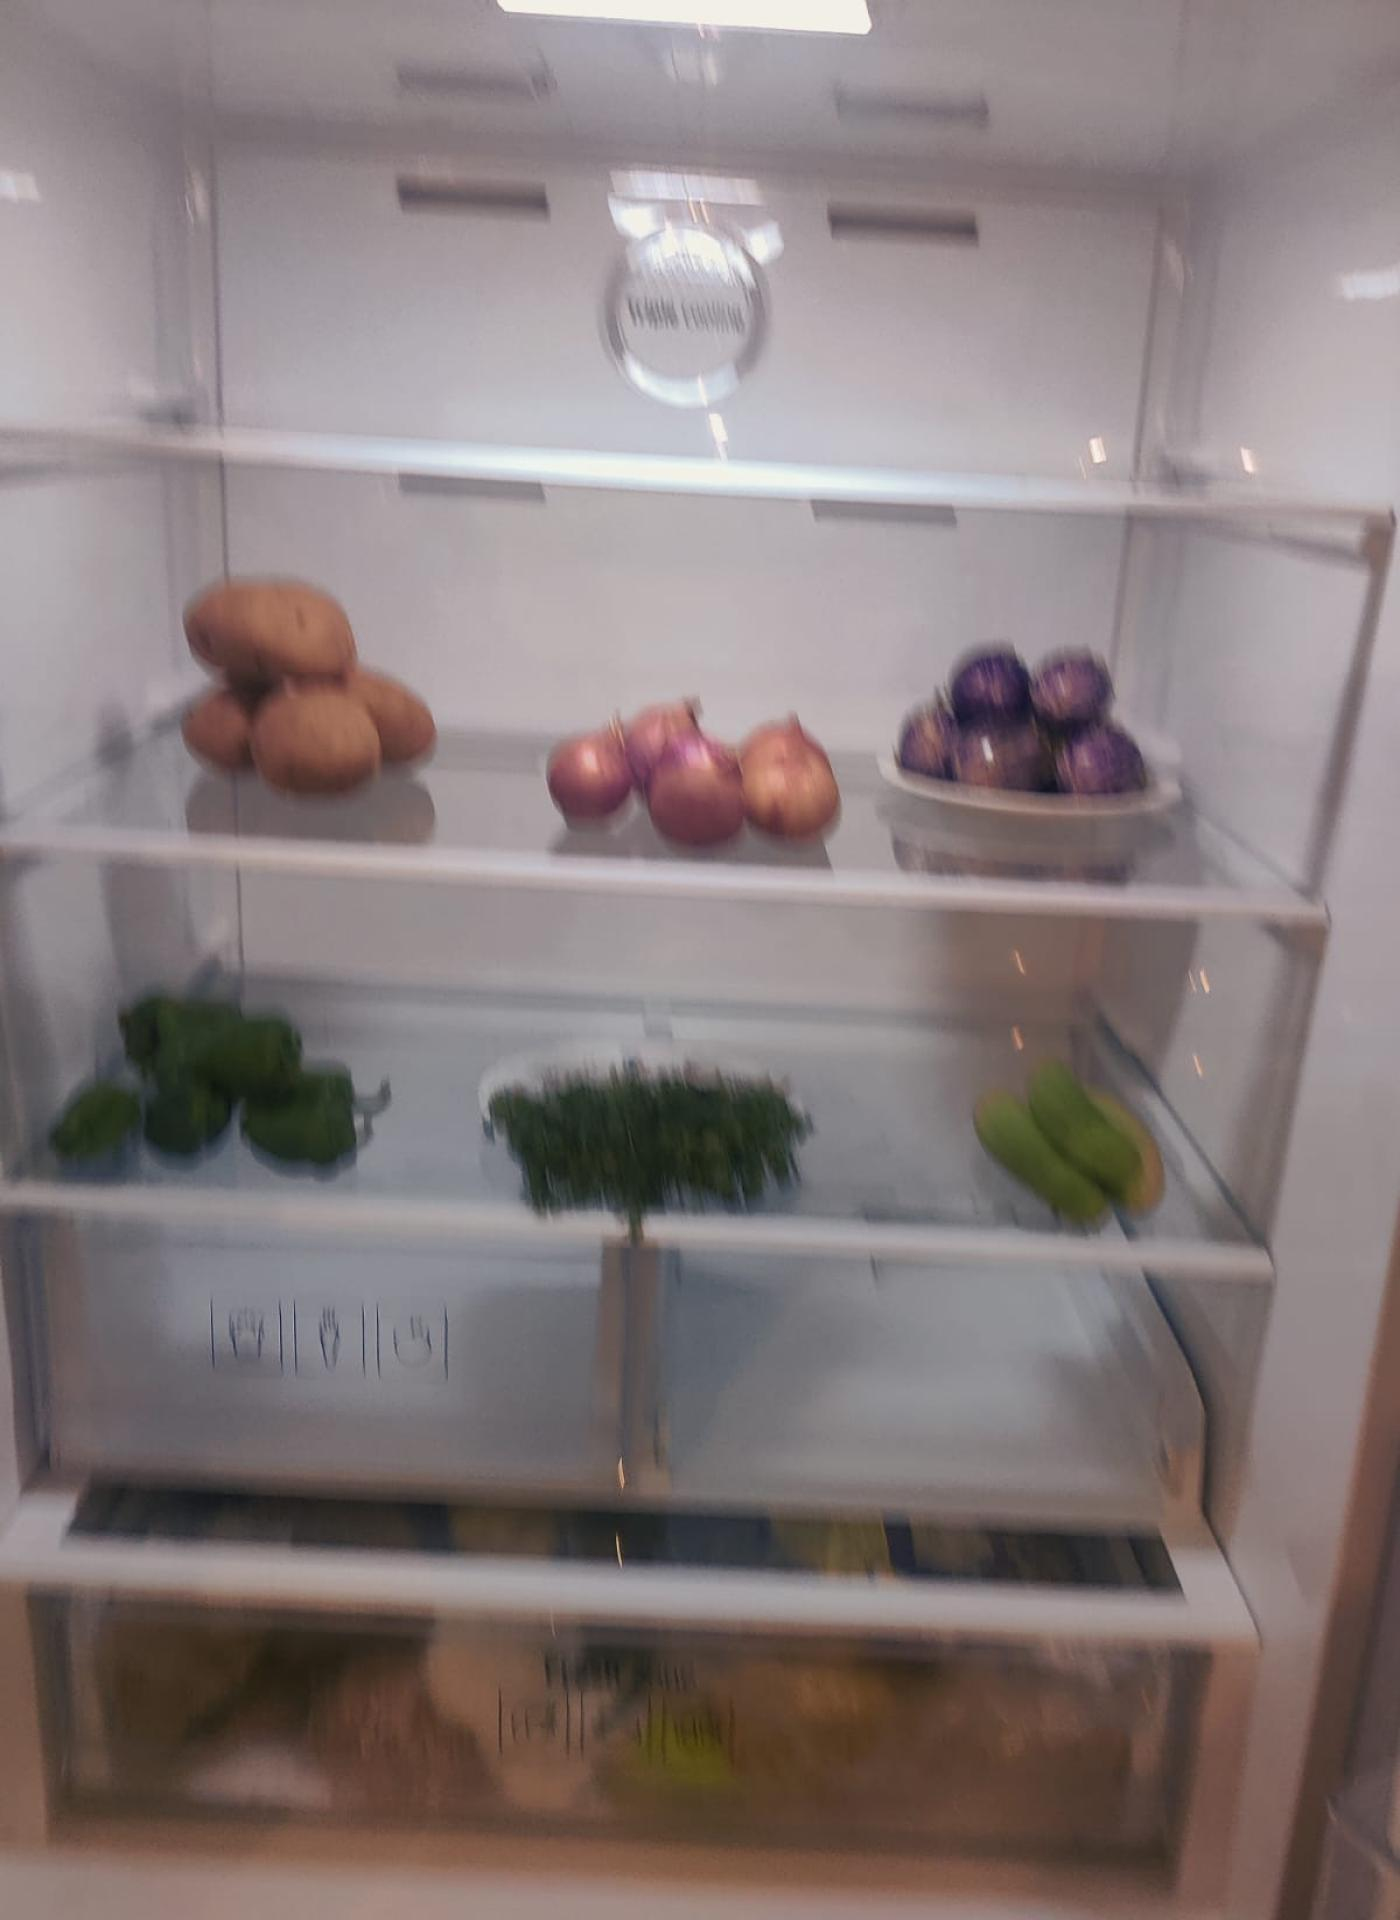brinjal: (906, 637, 1176, 808)
capsicum: (48, 981, 374, 1178)
carrots: (180, 574, 441, 798)
coriander: (499, 1054, 810, 1206)
cucumber: (974, 1058, 1170, 1225)
tomato: (547, 704, 842, 847)
